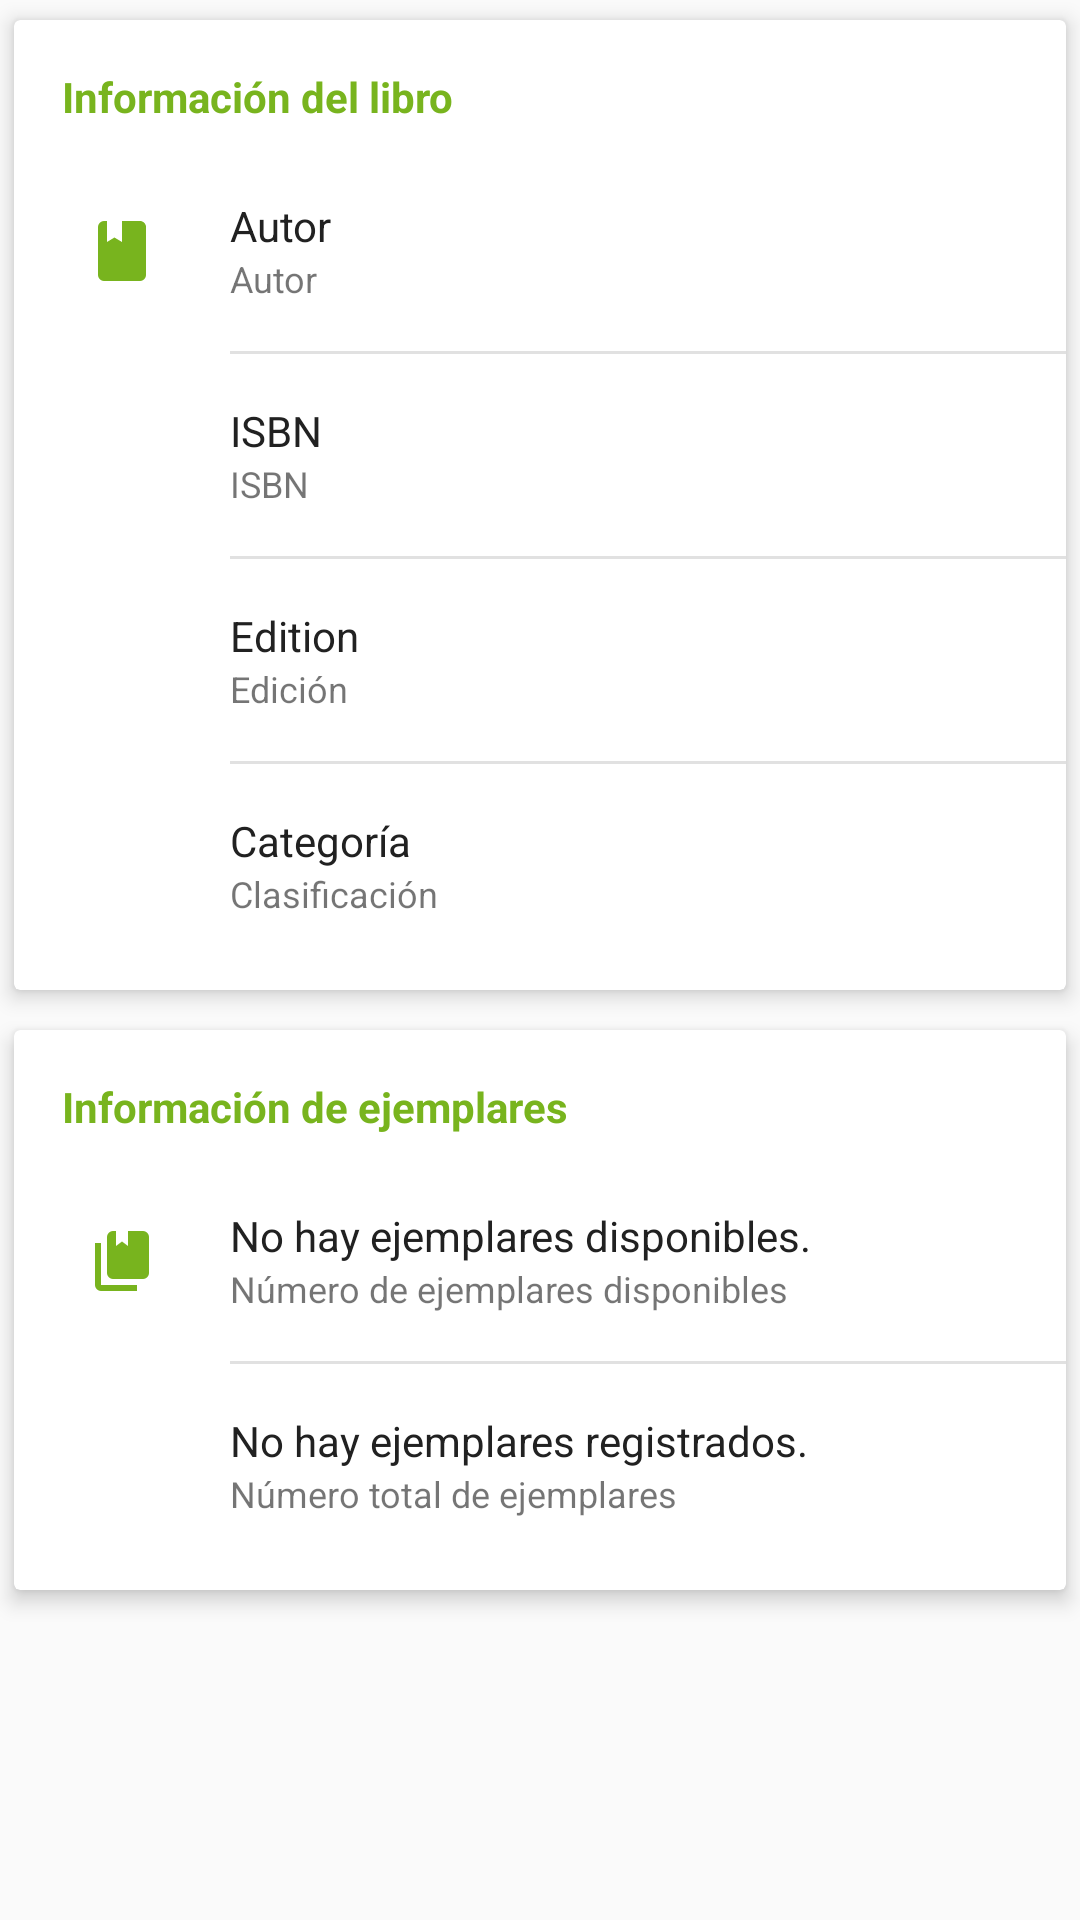

Icons on this 1080×1920 Android screen, each with its box as (x1, y1, x2, y2):
book: (98, 221, 146, 281)
copies: (95, 1231, 149, 1291)
